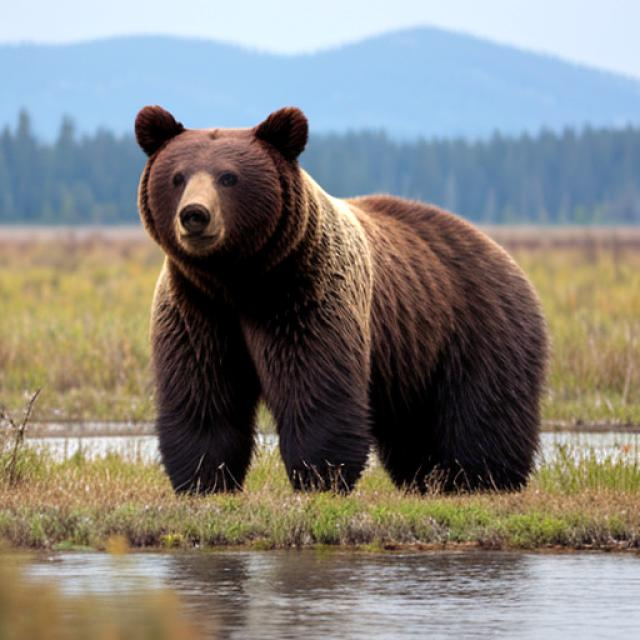bear: (117, 97, 374, 316)
